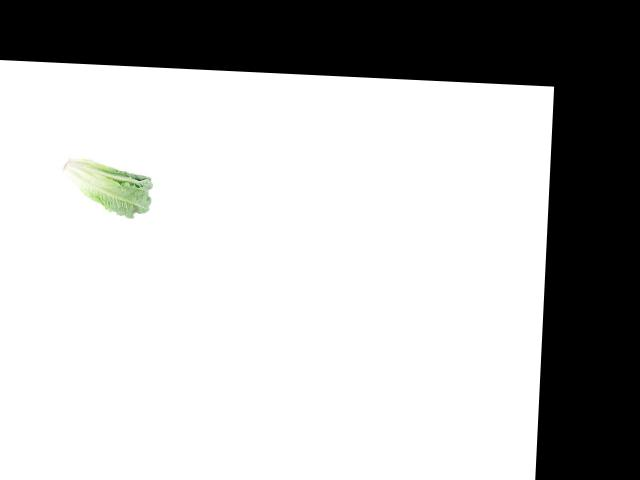lettuce: (55, 154, 156, 218)
